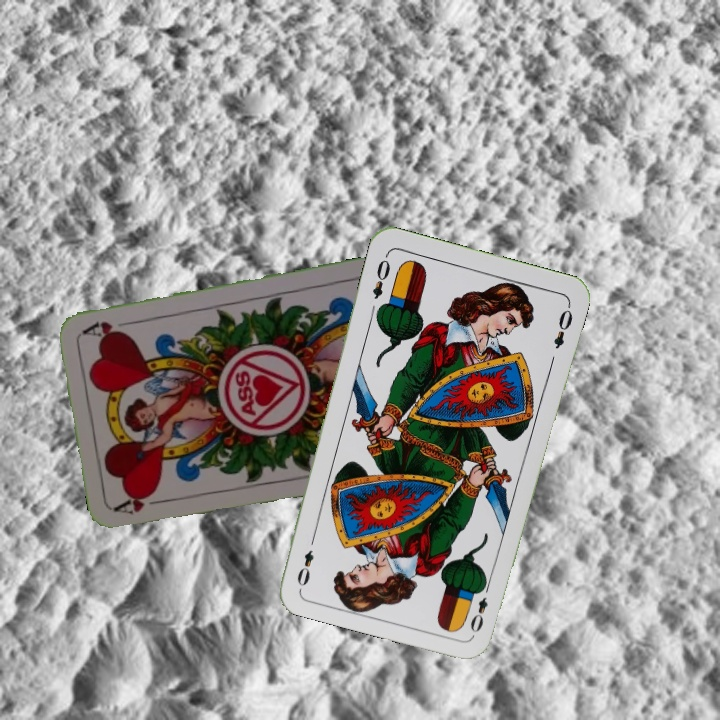EO: (466, 578, 493, 636), (368, 250, 393, 302)
HA: (112, 489, 171, 517)
